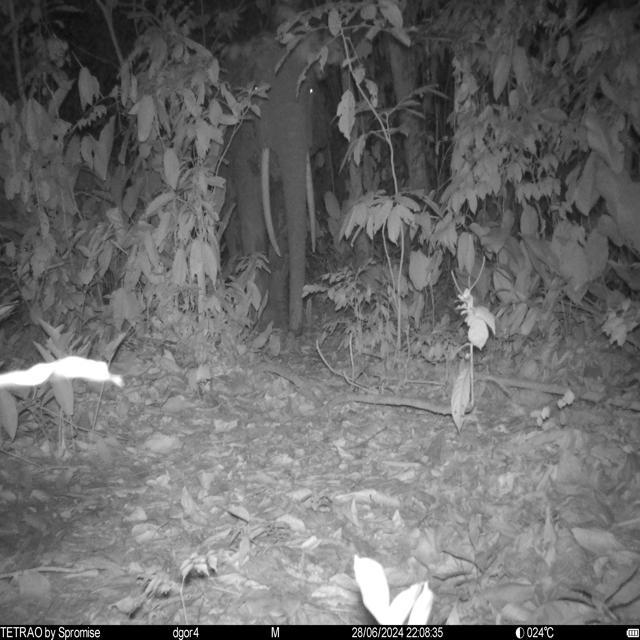elephant: (225, 44, 322, 348)
tusk: (260, 148, 283, 257), (305, 150, 317, 256)
